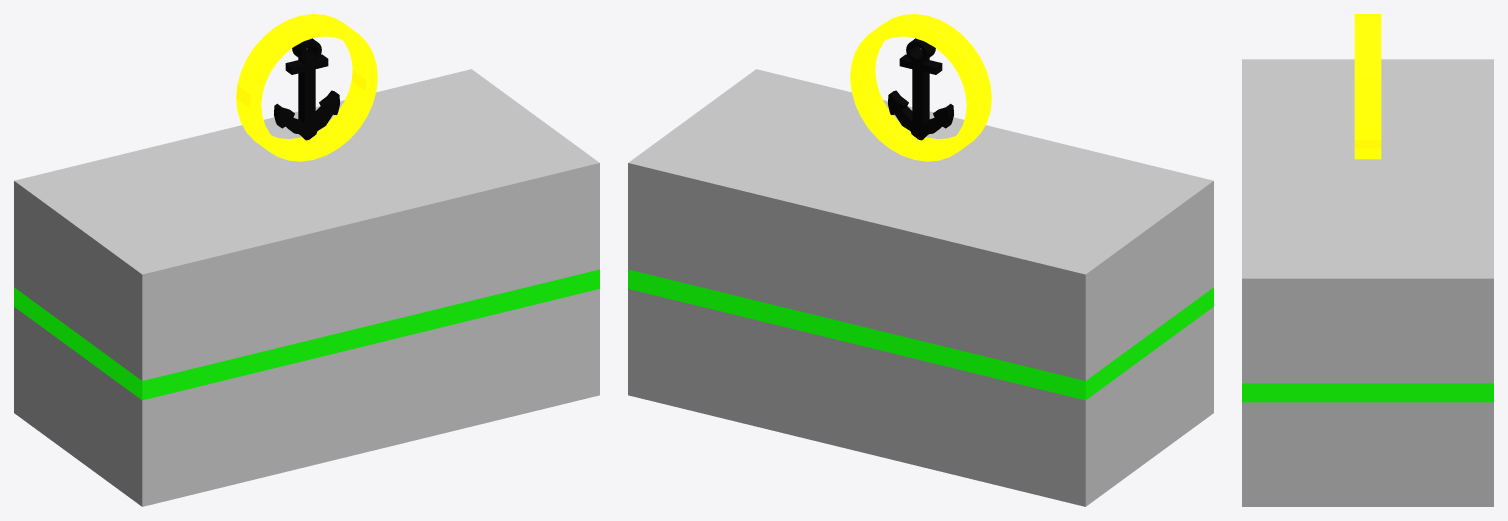
Rendered from DekV2.fbx.
3 renders of one model, left to right at view 1: azimuth 30°, elevation 25°; view 2: azimuth 150°, elevation 25°; view 3: azimuth 270°, elevation 25°, orthographic.
Visible parts, largest first — view 1: F Storage .001, Cylinder.002; view 2: F Storage .001, Cylinder.002; view 3: F Storage .001, Cylinder.002.
Part boxes in pixels (left/top/right/bottom): F Storage .001: left=14, top=69, right=599, bottom=506; Cylinder.002: left=236, top=14, right=377, bottom=161; F Storage .001: left=628, top=69, right=1213, bottom=506; Cylinder.002: left=850, top=14, right=991, bottom=161; F Storage .001: left=1242, top=59, right=1493, bottom=506; Cylinder.002: left=1354, top=14, right=1381, bottom=159.
Size of the model in its own units: 328 by 263 by 159.
